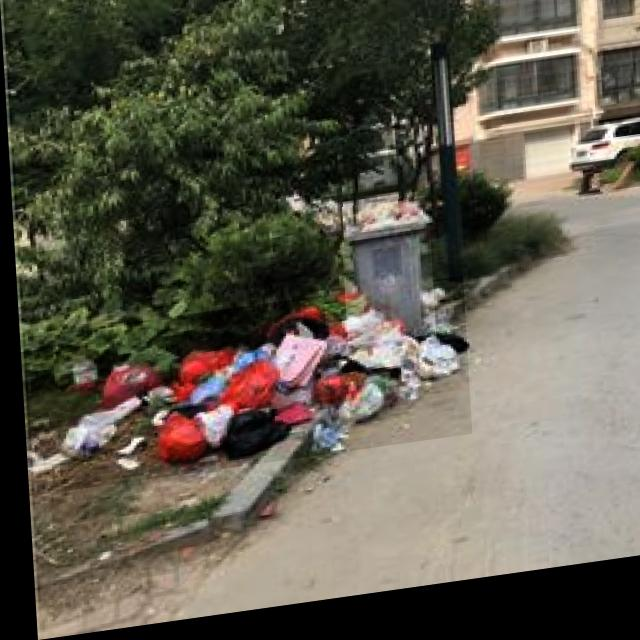garbage: (16, 289, 466, 496)
overflow: (337, 207, 432, 356)
